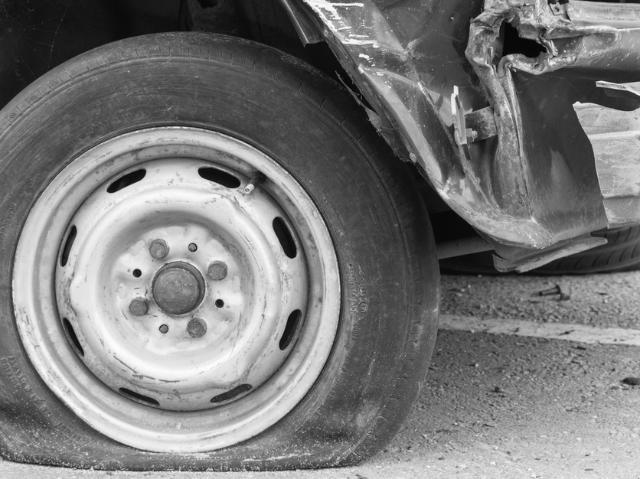Bumper: (314, 0, 640, 239)
